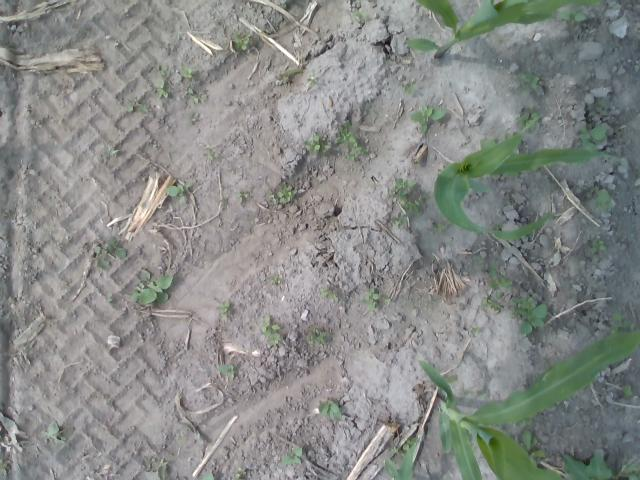Maize: (418, 330, 640, 480), (433, 117, 627, 240), (404, 0, 606, 59), (384, 440, 417, 480)
Weeds: (557, 449, 640, 480), (129, 267, 173, 306), (509, 294, 548, 334), (386, 177, 428, 214), (334, 119, 368, 162), (91, 236, 127, 269), (409, 103, 446, 133), (518, 427, 546, 461), (40, 420, 73, 447), (359, 288, 392, 313), (578, 124, 608, 150), (479, 131, 517, 150), (487, 261, 512, 289), (137, 458, 168, 480), (509, 72, 540, 94), (316, 398, 344, 422), (557, 4, 586, 26), (516, 104, 540, 130), (590, 186, 614, 211), (163, 182, 190, 204), (302, 134, 330, 155), (274, 67, 304, 86), (152, 63, 168, 98), (267, 186, 297, 204), (260, 315, 278, 345), (481, 290, 504, 313), (610, 311, 632, 334), (280, 446, 304, 466), (304, 326, 330, 344), (232, 31, 252, 52), (125, 98, 150, 114), (216, 363, 238, 381), (513, 411, 538, 426), (588, 238, 608, 255), (390, 212, 410, 228), (400, 77, 418, 94), (320, 286, 338, 302), (216, 298, 234, 314), (489, 169, 520, 178), (178, 64, 196, 79), (462, 390, 486, 401), (184, 88, 200, 104), (431, 221, 447, 235), (203, 148, 219, 162), (236, 189, 249, 203), (622, 384, 634, 399), (352, 9, 367, 21), (200, 471, 219, 480), (186, 112, 199, 125), (234, 466, 246, 480), (268, 274, 284, 284), (104, 146, 118, 156), (474, 255, 485, 266), (0, 457, 7, 474), (592, 101, 602, 112), (470, 326, 482, 334), (307, 76, 318, 84), (614, 128, 622, 137), (106, 292, 112, 303), (364, 103, 372, 111), (494, 224, 504, 229), (428, 298, 436, 304)
